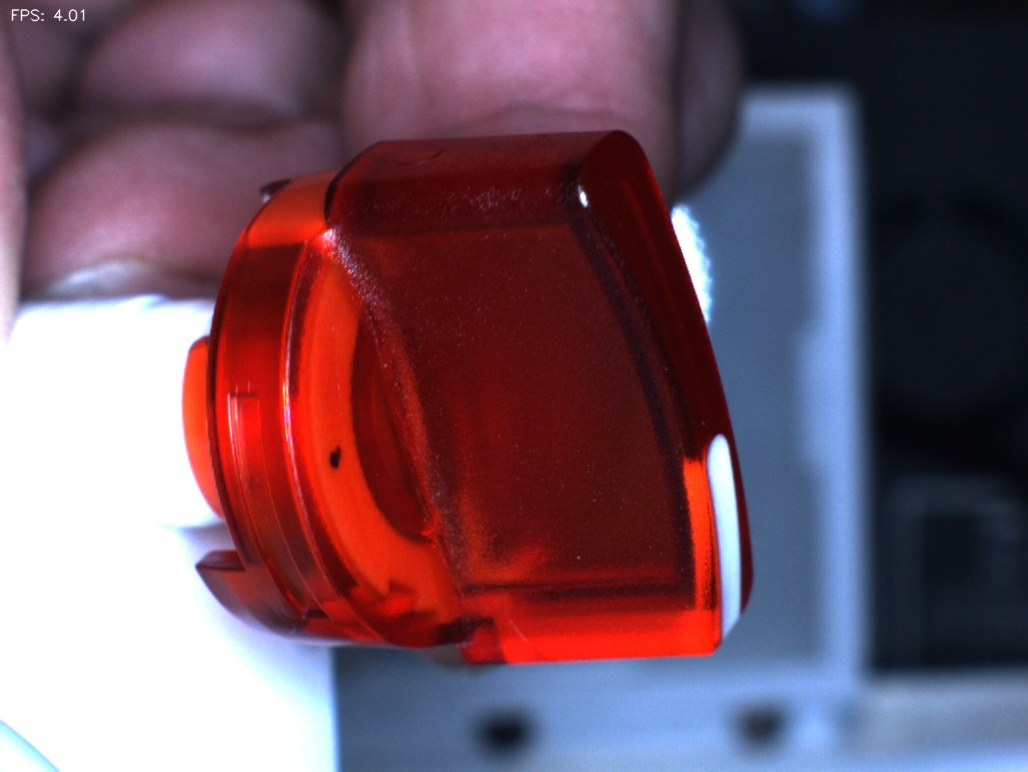PointNoir: (299, 408, 370, 506)
